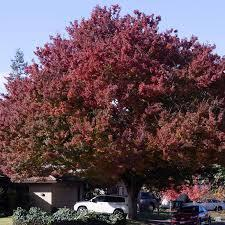tree: (1, 1, 225, 221)
